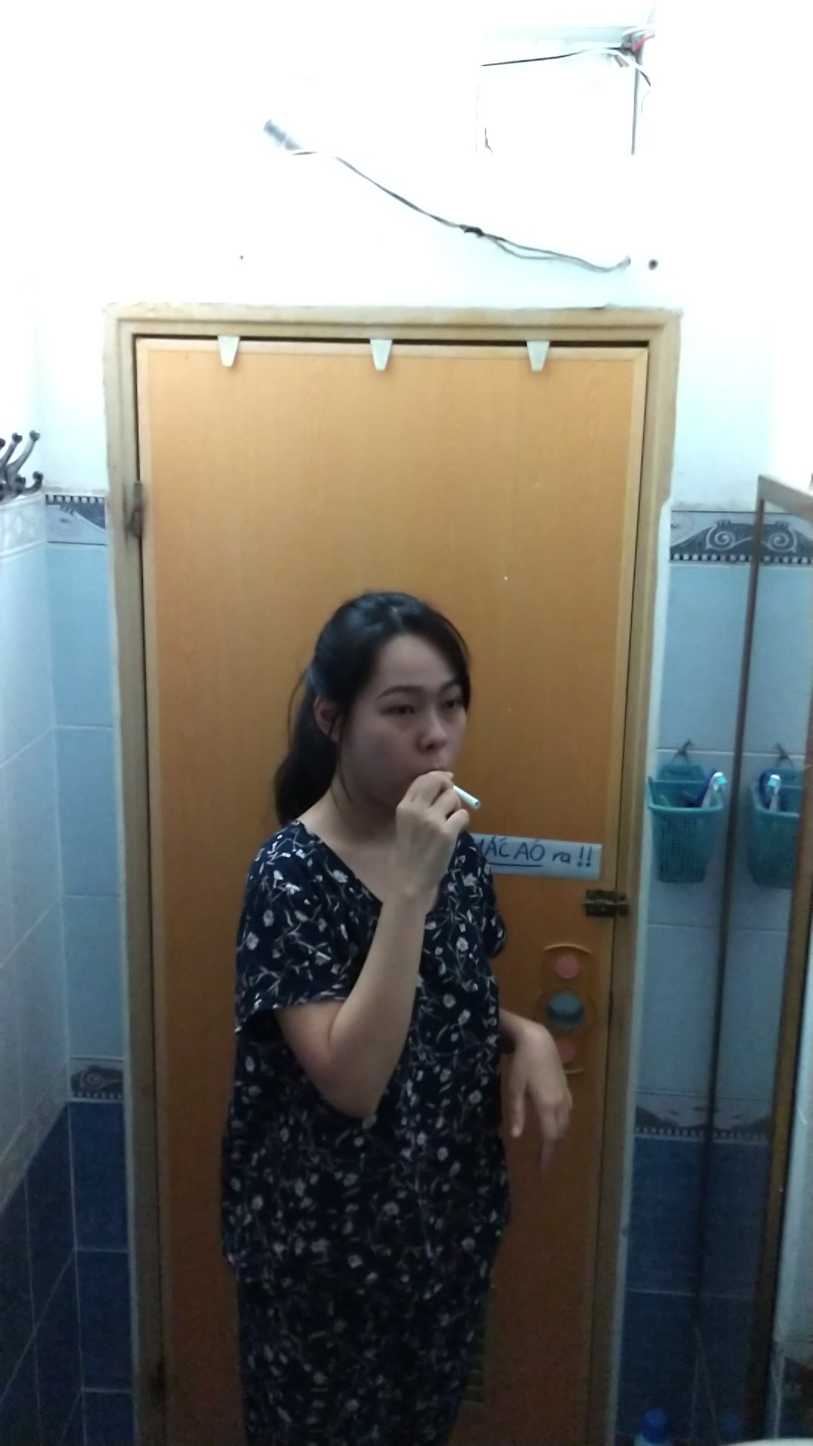cigarette: (452, 782, 488, 810)
person: (217, 584, 531, 1446)
